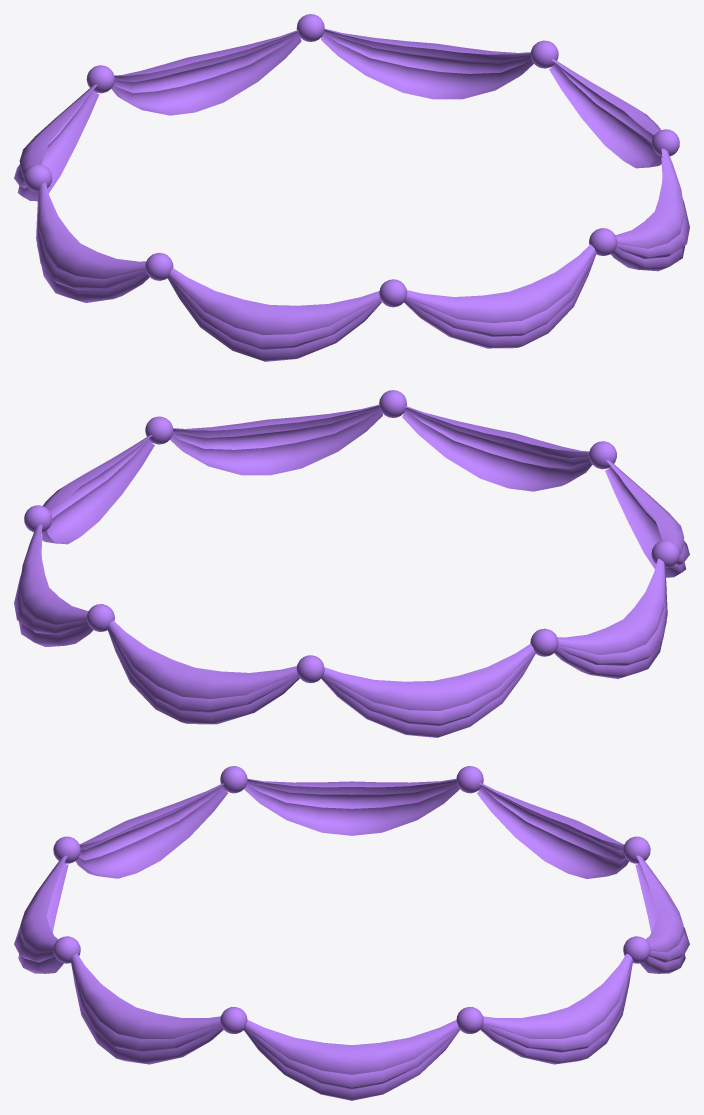
File: Cake_Lrg_itemsSide_Drapes-A.FBX
3 renders of one model, top to bottom at view 1: azimuth 30°, elevation 25°; view 2: azimuth 150°, elevation 25°; view 3: azimuth 270°, elevation 25°, orthographic. The views are drawn at different scales.
Parts seen in each view (by area): view 1: Cake_Lrg_itemsSide_Drapes-A; view 2: Cake_Lrg_itemsSide_Drapes-A; view 3: Cake_Lrg_itemsSide_Drapes-A.
Boxes of the visible parts, bbox=[...] form: Cake_Lrg_itemsSide_Drapes-A: bbox=[14, 14, 689, 361]; Cake_Lrg_itemsSide_Drapes-A: bbox=[14, 390, 689, 737]; Cake_Lrg_itemsSide_Drapes-A: bbox=[14, 766, 689, 1100].
Bounding box in the file's own units: 10464 × 1322 × 10464.
